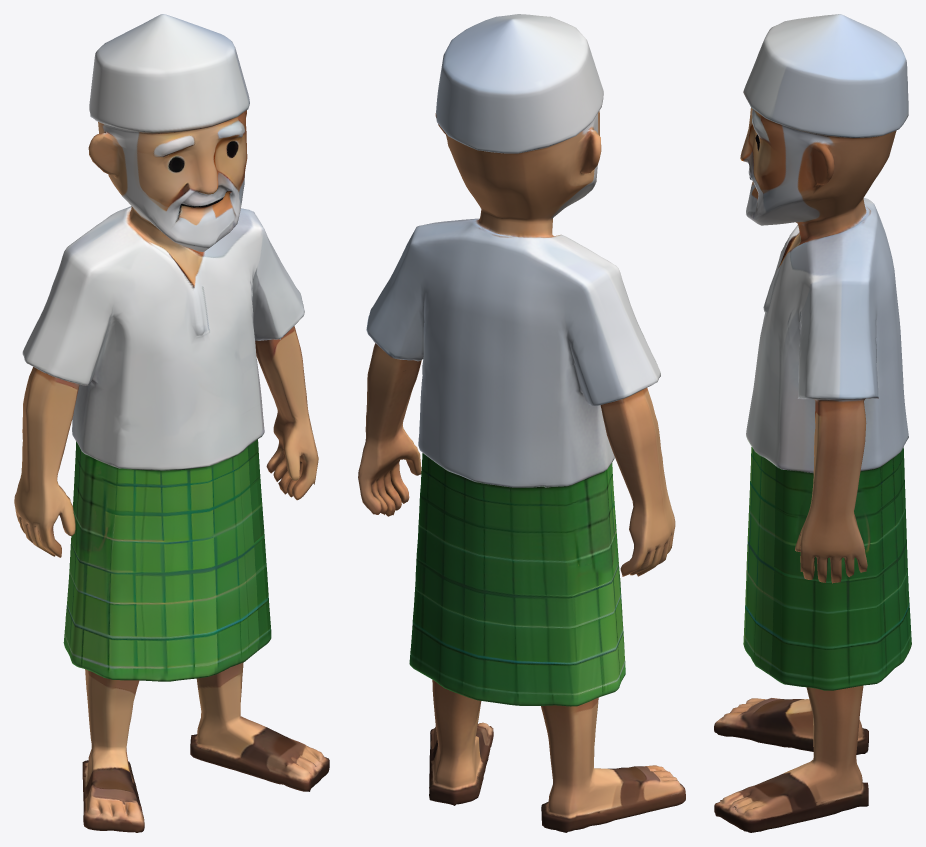
Rendered from npc_haji_dudung.glb.
3 renders of one model, left to right at view 1: azimuth 30°, elevation 25°; view 2: azimuth 150°, elevation 25°; view 3: azimuth 270°, elevation 25°, orthographic. The views are drawn at different scales.
Visible parts, largest first — view 1: model; view 2: model; view 3: model.
Part boxes in pixels (x1,y1,x2,y2): model: (14, 14, 329, 832); model: (358, 14, 685, 832); model: (714, 14, 911, 832).
Bounding box in the file's own units: 0.7035 × 1.77 × 0.4181.
Materials: 1 (1 with a texture image).
